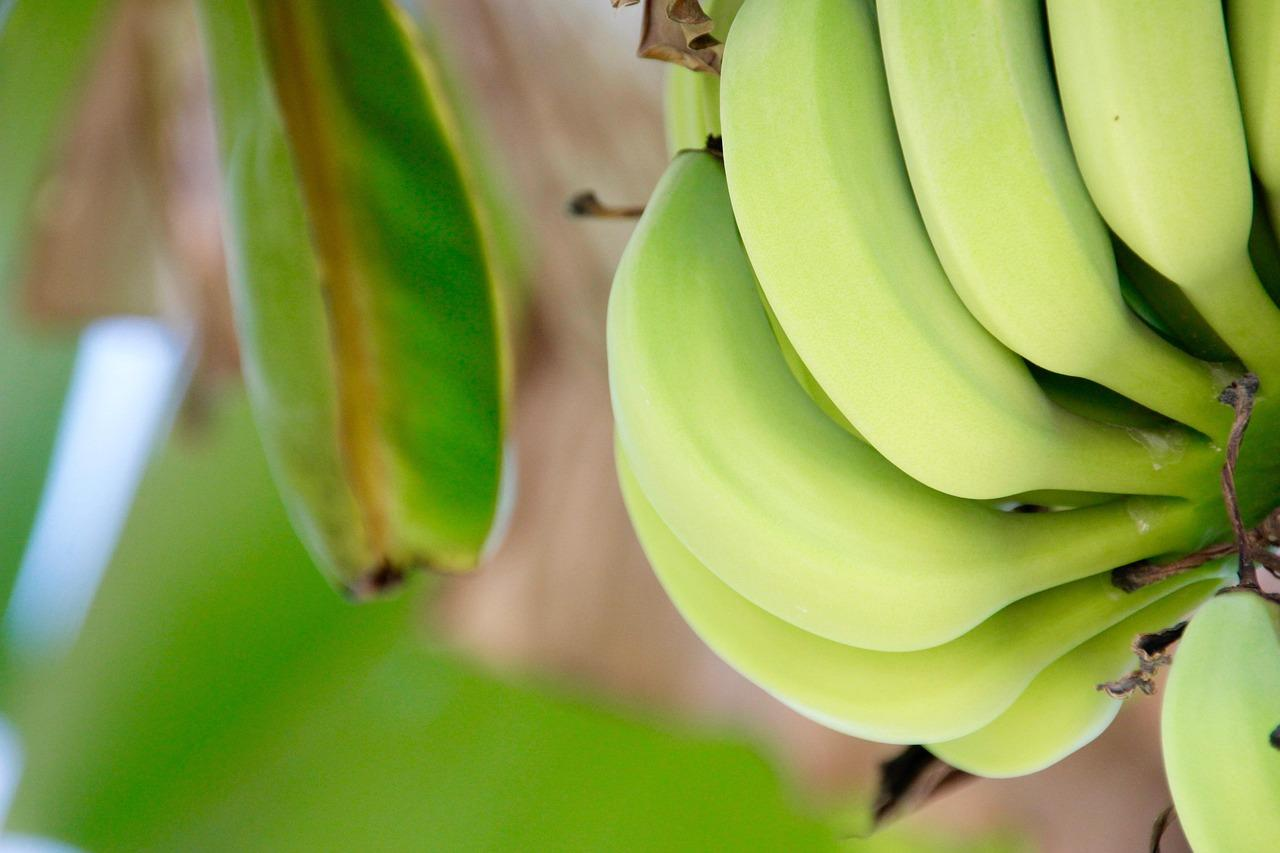banana: (527, 24, 1274, 813)
